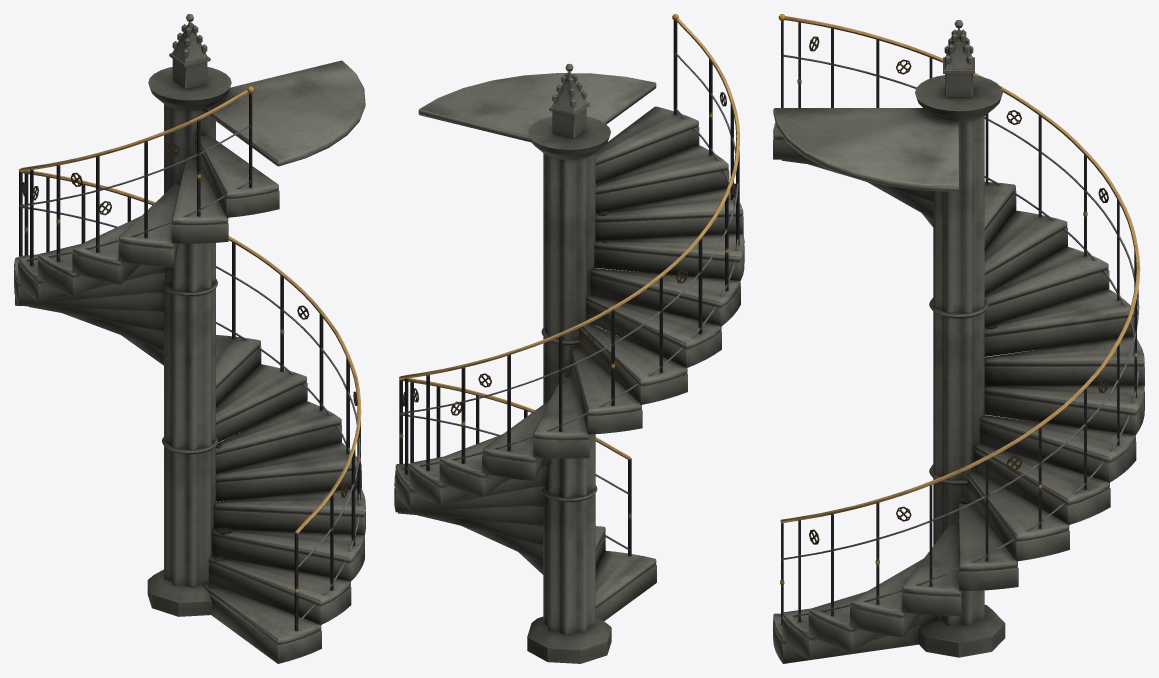
Rendered from StairSpiral.fbx.
3 renders of one model, left to right at view 1: azimuth 30°, elevation 25°; view 2: azimuth 150°, elevation 25°; view 3: azimuth 270°, elevation 25°, orthographic. The views are drawn at different scales.
Visible parts, largest first — view 1: StairSpiral_Main, StairSpiral_Rail; view 2: StairSpiral_Main, StairSpiral_Rail; view 3: StairSpiral_Main, StairSpiral_Rail.
Boxes of the visible parts, x1,y1,x2,y2 form: StairSpiral_Main: (14, 14, 365, 663); StairSpiral_Rail: (19, 86, 361, 631); StairSpiral_Main: (394, 64, 744, 663); StairSpiral_Rail: (399, 14, 739, 556); StairSpiral_Main: (773, 20, 1144, 663); StairSpiral_Rail: (778, 14, 1140, 625).
Bounding box in the file's own units: 800 × 1470 × 800.
